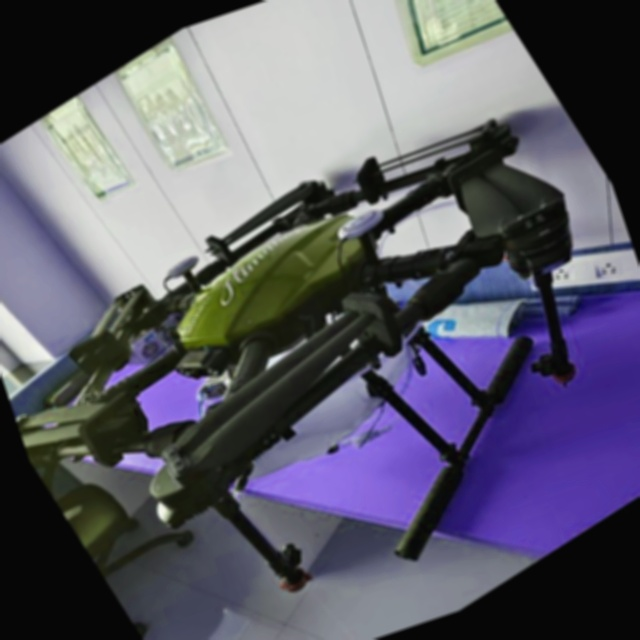agriculturedrone: (0, 30, 640, 640)
